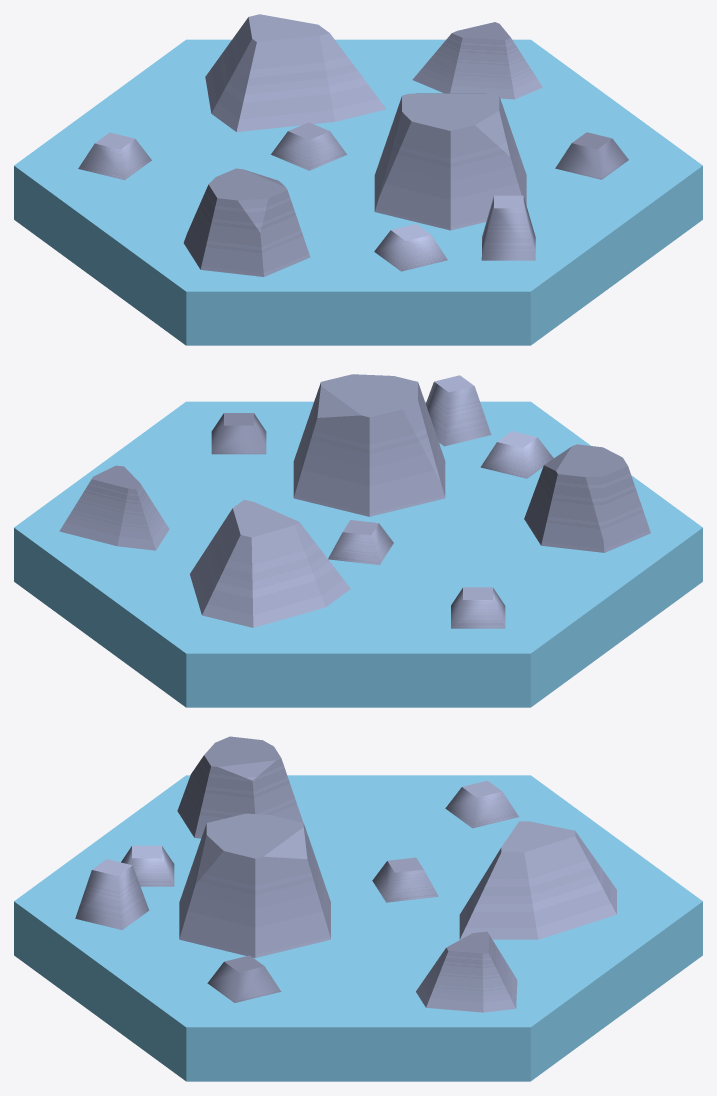
Rendered from water-rocks.glb.
3 renders of one model, top to bottom at view 1: azimuth 30°, elevation 25°; view 2: azimuth 150°, elevation 25°; view 3: azimuth 270°, elevation 25°, orthographic.
Visible parts, largest first — view 1: water-rocks; view 2: water-rocks; view 3: water-rocks.
Boxes of the visible parts, <box> form: water-rocks: <box>14,14,702,345</box>; water-rocks: <box>14,374,702,707</box>; water-rocks: <box>14,736,702,1081</box>.
Bounding box in the file's own units: 1 × 0.2594 × 1.15.
1 material, 1 textured.
